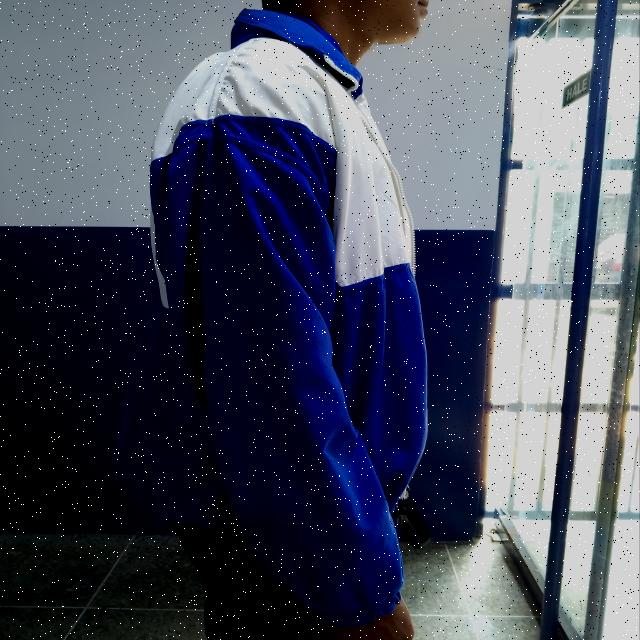chaqueta_unefa: (113, 7, 430, 628)
